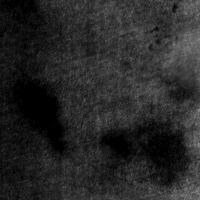patches: (132, 114, 191, 184), (149, 7, 200, 77), (15, 75, 60, 141), (166, 29, 200, 93), (162, 56, 200, 105), (100, 122, 135, 163)
